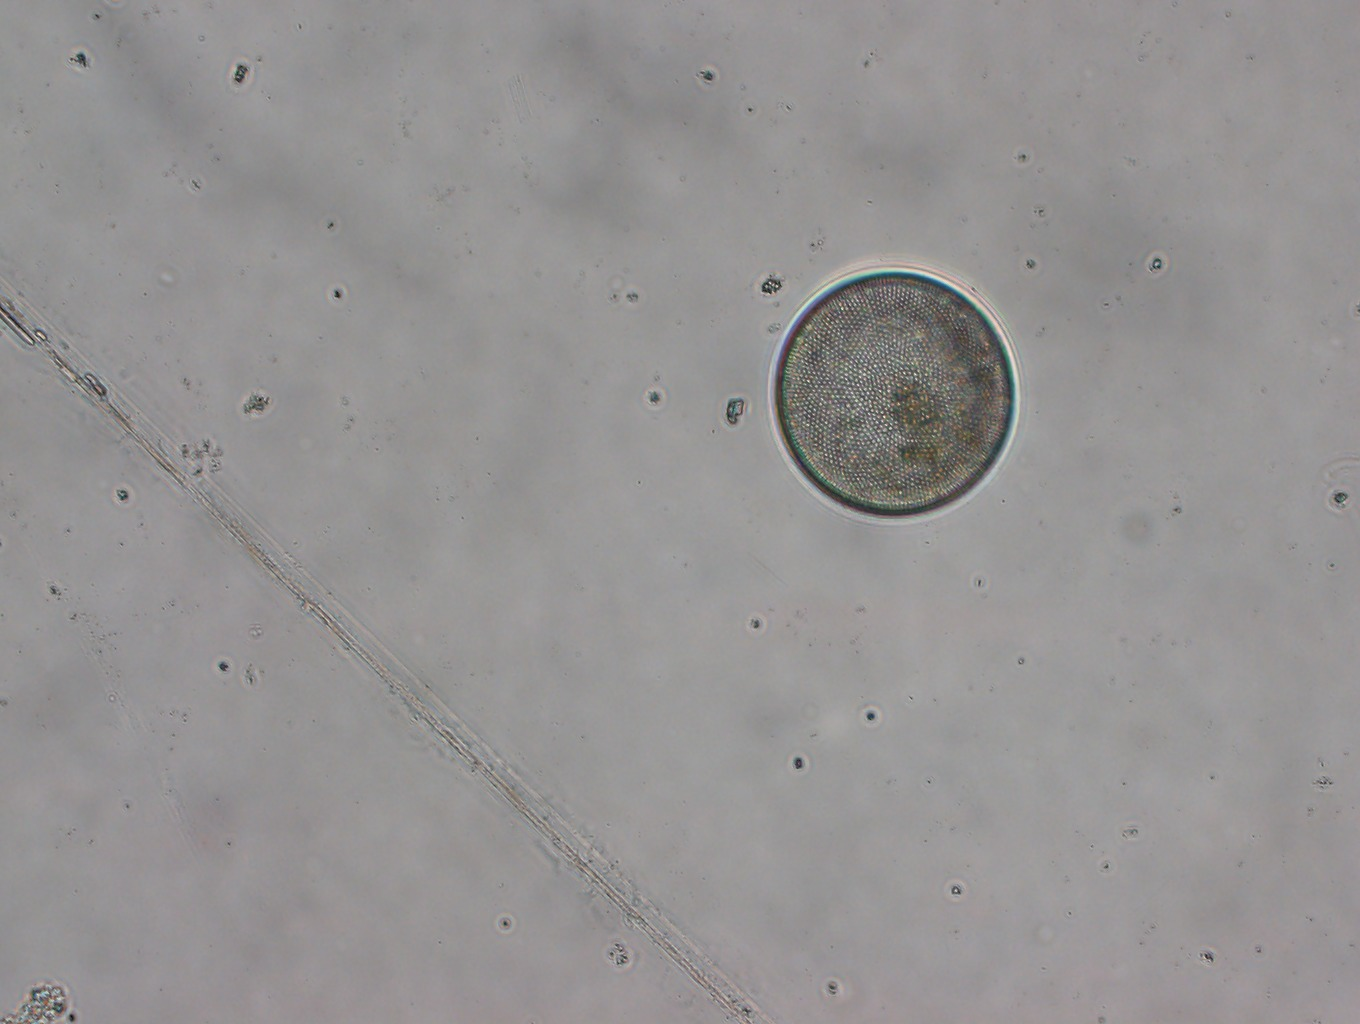coscinodiscus: (769, 266, 1022, 523)
